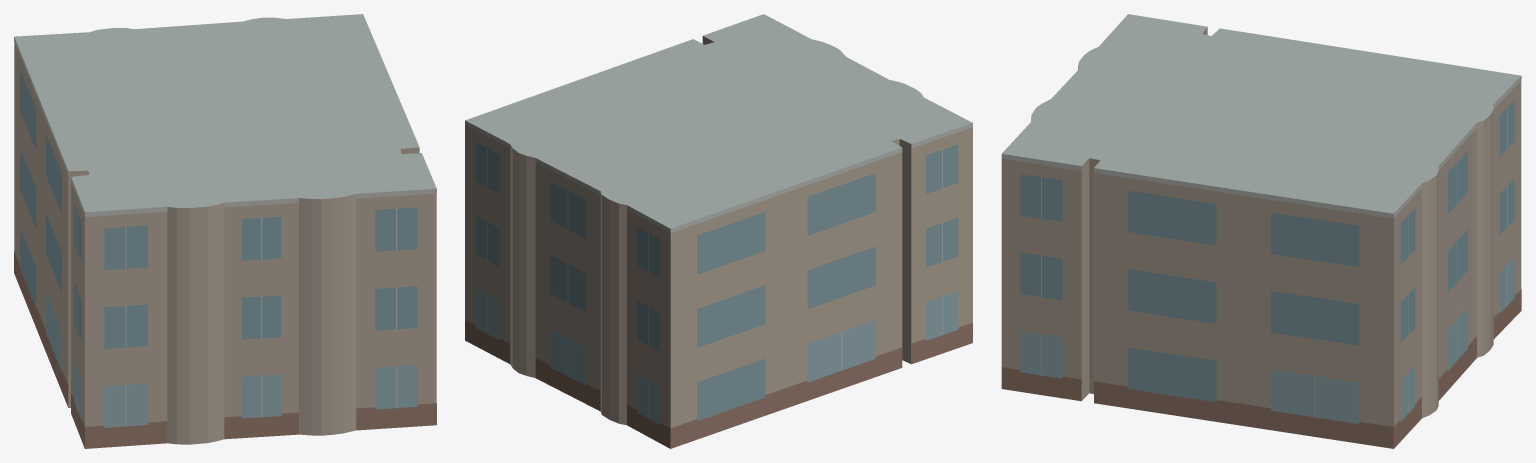
The model's file is survey-upis-32899353.glb.
The picture shows the model from 3 angles, left to right: view 1: azimuth 30°, elevation 25°; view 2: azimuth 150°, elevation 25°; view 3: azimuth 270°, elevation 25°; orthographic projection. The views are drawn at different scales.
Visible parts, largest first — view 1: survey-upis-32899353.tmp; view 2: survey-upis-32899353.tmp; view 3: survey-upis-32899353.tmp.
Boxes of the visible parts, box(x1,y1,x2,y2) form: survey-upis-32899353.tmp: box(14, 14, 436, 448); survey-upis-32899353.tmp: box(465, 14, 972, 448); survey-upis-32899353.tmp: box(1001, 14, 1521, 448).
Bounding box in the file's own units: 21.69 × 11.9 × 23.85.
